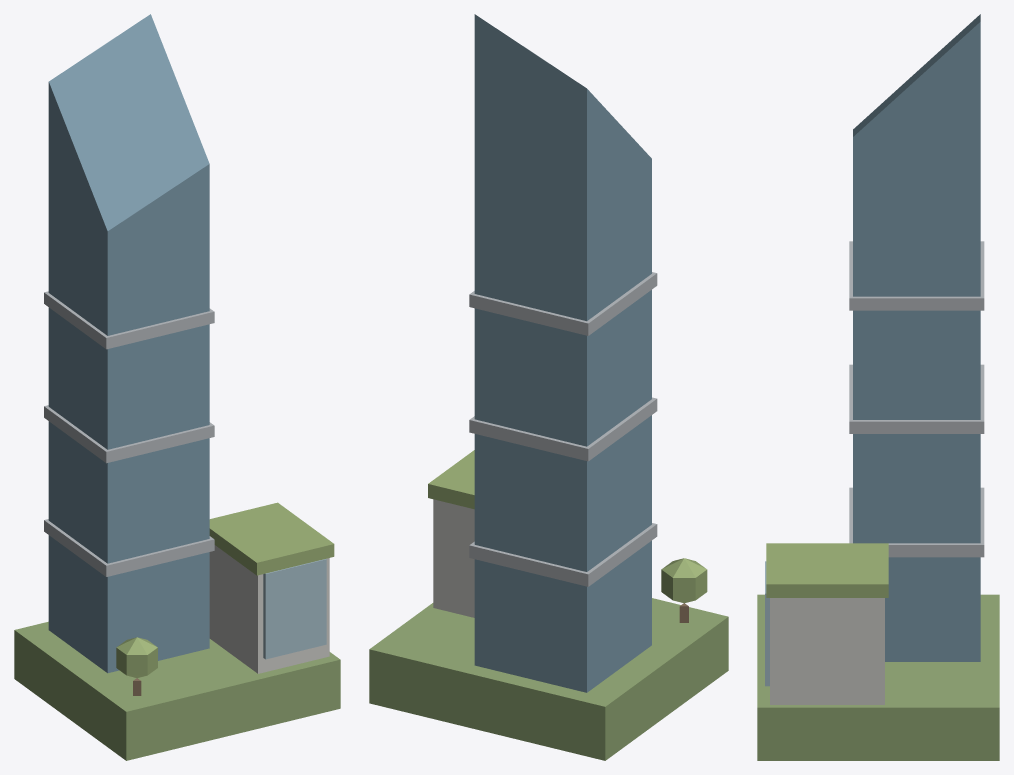
File: house-information-1.glb
The picture shows the model from 3 angles, left to right: view 1: azimuth 30°, elevation 25°; view 2: azimuth 150°, elevation 25°; view 3: azimuth 270°, elevation 25°; orthographic projection. The views are drawn at different scales.
Visible parts, largest first — view 1: LOD0; view 2: LOD0; view 3: LOD0.
Part boxes in pixels (<box>): LOD0: <box>14,14,340,760</box>; LOD0: <box>369,14,728,760</box>; LOD0: <box>757,14,999,760</box>.
Size of what is drawn, in the model's own units: 0.21 by 0.6 by 0.19.
